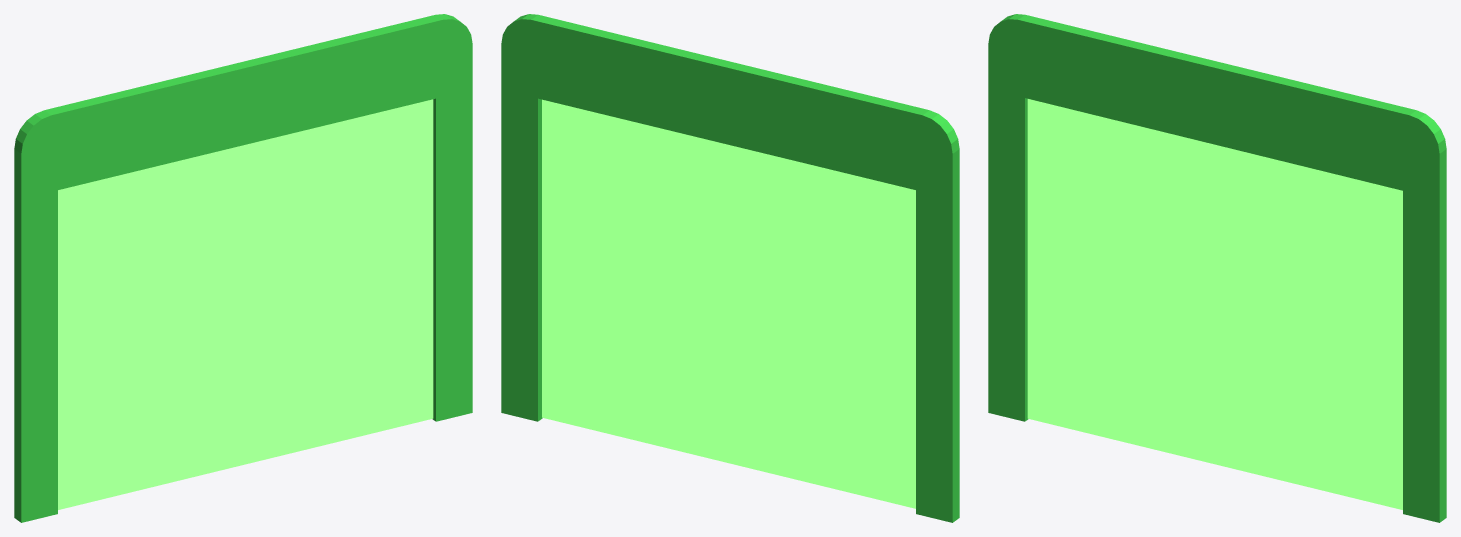
File: tuong cong tru nhan chia xanh la cay.fbx
3 views of the same model, side by side, from view 1: azimuth 30°, elevation 25°; view 2: azimuth 150°, elevation 25°; view 3: azimuth 330°, elevation 25° (orthographic).
Parts seen in each view (by area): view 1: Plane.019; view 2: Plane.019; view 3: Plane.019.
Boxes of the visible parts, x1,y1,x2,y2 form: Plane.019: [14, 14, 472, 522]; Plane.019: [501, 14, 959, 522]; Plane.019: [988, 14, 1446, 522].
Bounding box in the file's own units: 119 × 101 × 3.21.
